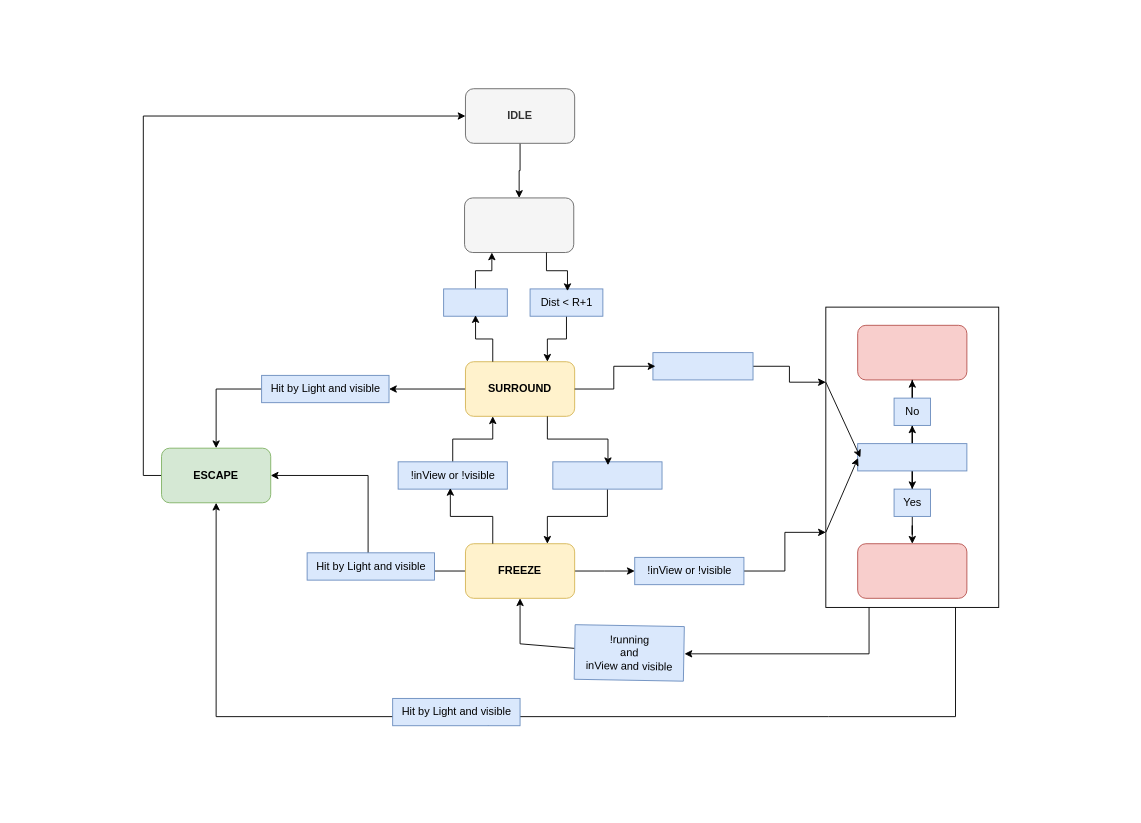
Some shapes in this 1141 by 823 pixel diagram are drawn without their labels. The shapes that lost their labels are listed below. From the top down, each one's centre as x and y in pixels, then its label:
At (x=519, y=225): "GET TO PLAYER".
At (x=475, y=302): "Dist > R".
At (x=702, y=366): "chance to attack".
At (x=912, y=352): "WALK ATTACK".
At (x=607, y=475): "inView and visible".
At (x=912, y=457): "FREEZE timeout?".
At (x=912, y=570): "RUN ATTACK".
